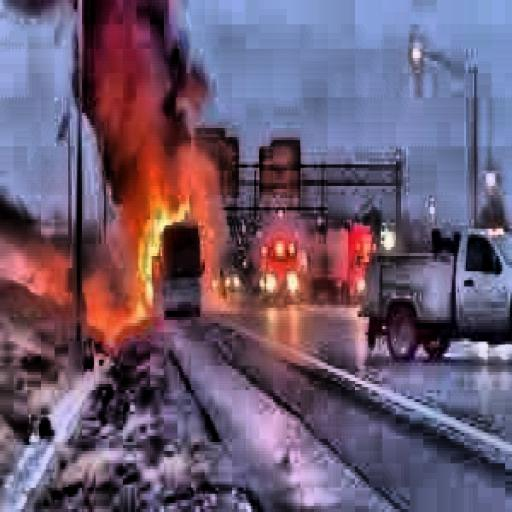fire: (113, 174, 201, 323)
